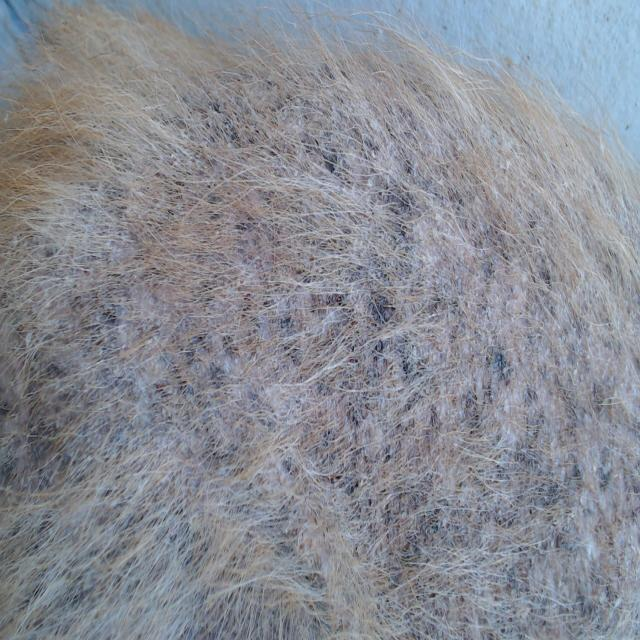demodicosis: (48, 120, 582, 565)
